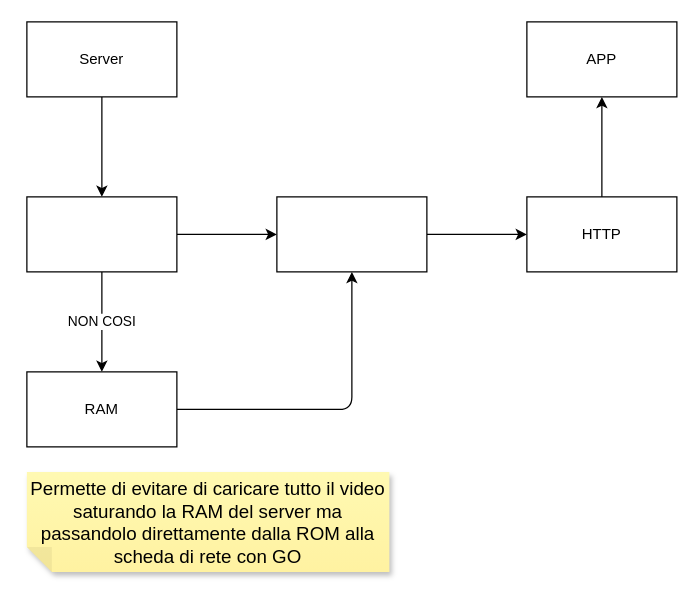
The diagram is 699 pixels wide and 603 high, and some of its shapes have lost their labels. Here are the shapes that lost their labels. From the top down, the centre of each, then its label:
At [101,234]: "VIDEO ROM".
At [351,234]: "SCHEDA RETE".
